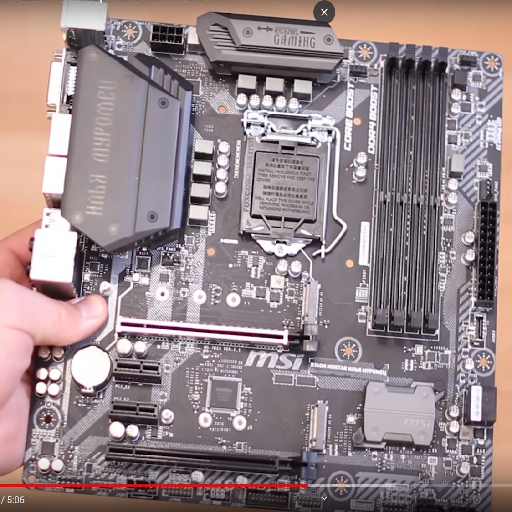CPU: (241, 129, 329, 256)
GPU: (104, 441, 317, 482), (115, 314, 319, 355)
MOTHERBOARD: (17, 12, 501, 508)
RAM: (375, 43, 446, 335)
SSD: (308, 401, 329, 452), (299, 280, 321, 321)
